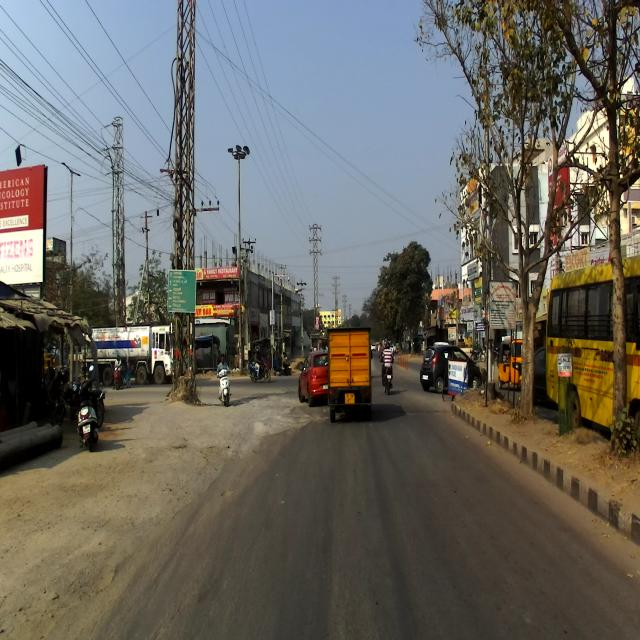car ahead at: (300, 348, 328, 408)
electric pole ahead at: (158, 0, 208, 403)
motorcycle ahead at: (70, 364, 105, 445)
truck ahead at: (325, 323, 376, 419)
